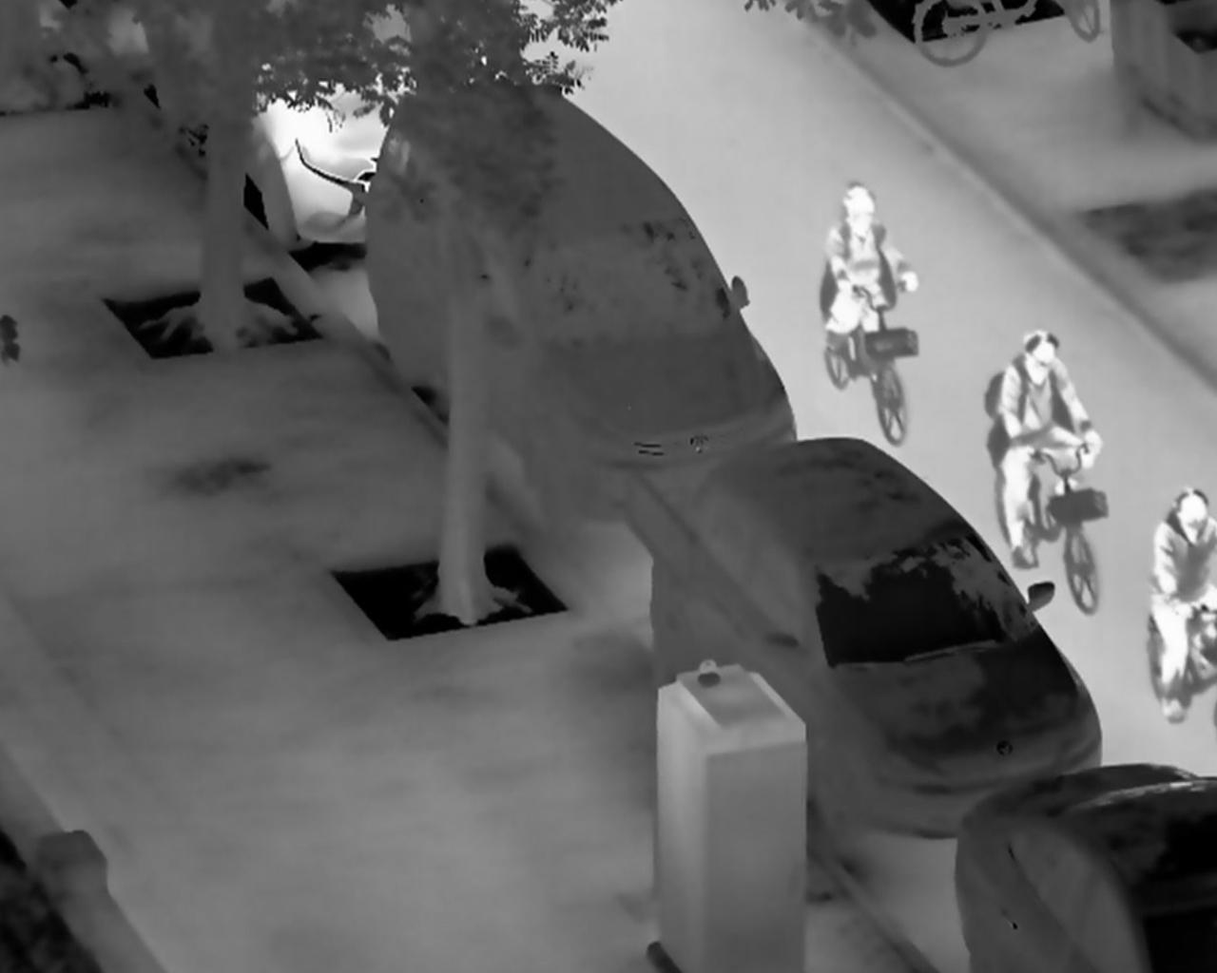person: (997, 328, 1103, 574), (822, 181, 918, 353), (1149, 486, 1217, 726)
